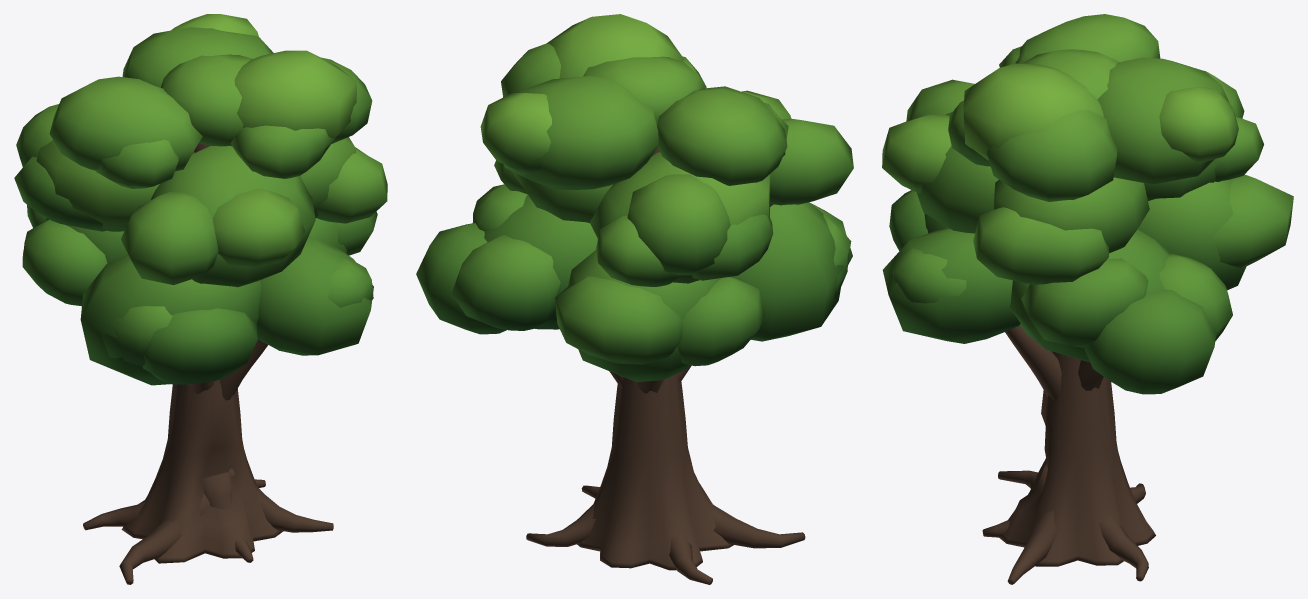
The model's file is ancientgiant.lod0.glb.
The picture shows the model from 3 angles, left to right: view 1: azimuth 30°, elevation 25°; view 2: azimuth 150°, elevation 25°; view 3: azimuth 270°, elevation 25°; orthographic projection. The views are drawn at different scales.
Visible parts, largest first — view 1: ancientgiant_s1_lod0; view 2: ancientgiant_s1_lod0; view 3: ancientgiant_s1_lod0.
Part boxes in pixels (box(x1,y1,x2,y2)): ancientgiant_s1_lod0: box(14, 14, 387, 584); ancientgiant_s1_lod0: box(416, 14, 853, 584); ancientgiant_s1_lod0: box(882, 14, 1293, 584).
Size of the model in its own units: 11.52 by 15.53 by 11.78.
